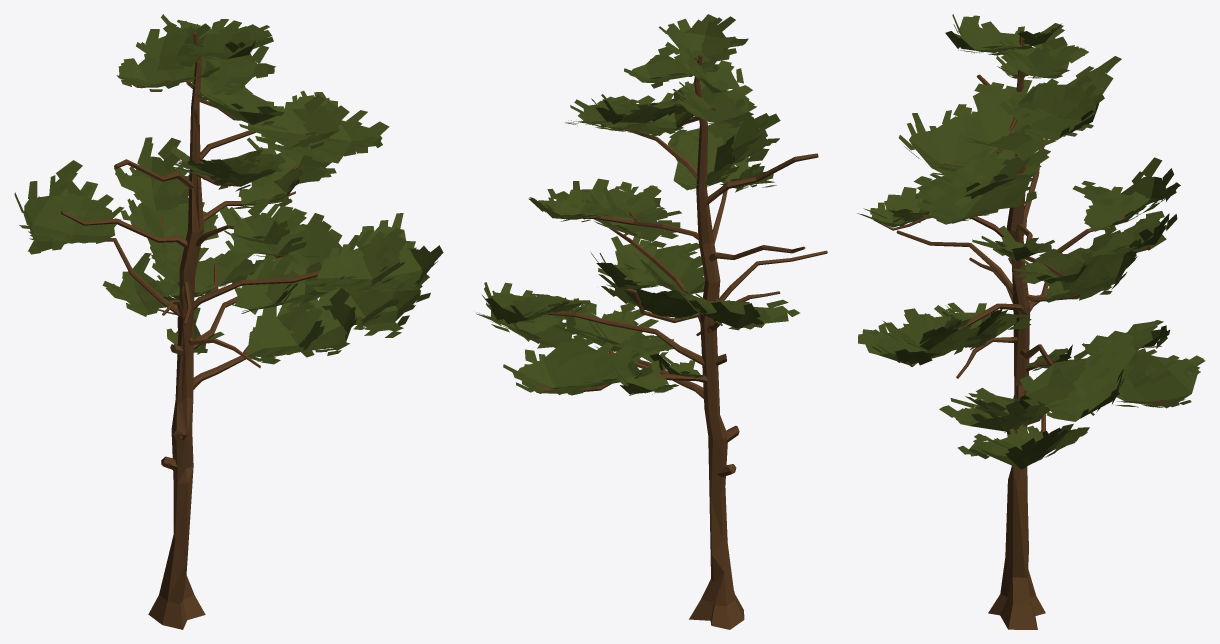
File: SM_Tree_Pine_Mature_A.fbx
3 renders of one model, left to right at view 1: azimuth 30°, elevation 25°; view 2: azimuth 150°, elevation 25°; view 3: azimuth 270°, elevation 25°, orthographic. The views are drawn at different scales.
Parts seen in each view (by area): view 1: tree-pine-mature-a; view 2: tree-pine-mature-a; view 3: tree-pine-mature-a.
Part boxes in pixels (x1=…): tree-pine-mature-a: x1=14, y1=14, x2=443, y2=629; tree-pine-mature-a: x1=476, y1=14, x2=827, y2=629; tree-pine-mature-a: x1=857, y1=14, x2=1205, y2=629.
Bounding box in the file's own units: 7.56 × 11.86 × 6.12.
